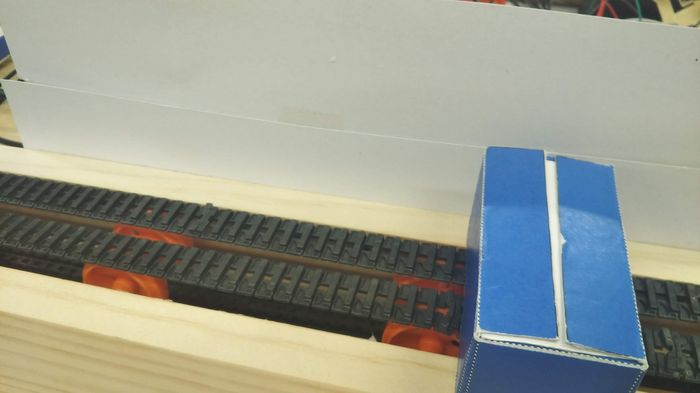box3: (455, 141, 649, 393)
